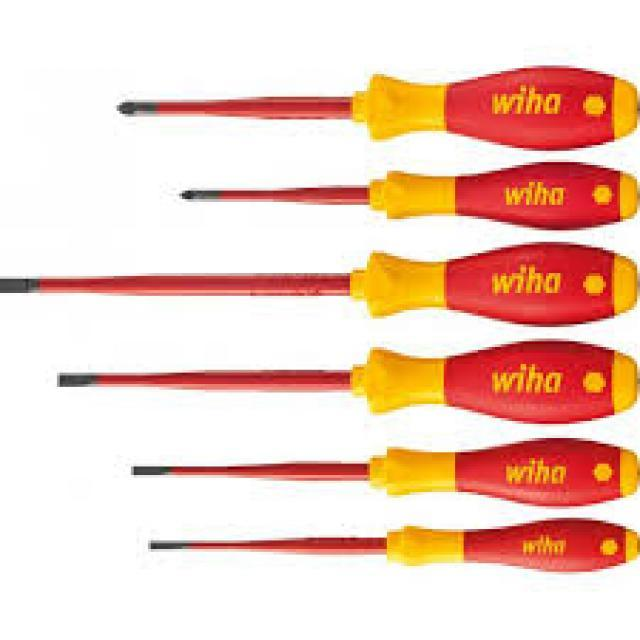screwdriver: (0, 239, 640, 327), (48, 336, 640, 426), (77, 61, 640, 155), (125, 435, 640, 512), (170, 159, 640, 233), (145, 516, 640, 576)
